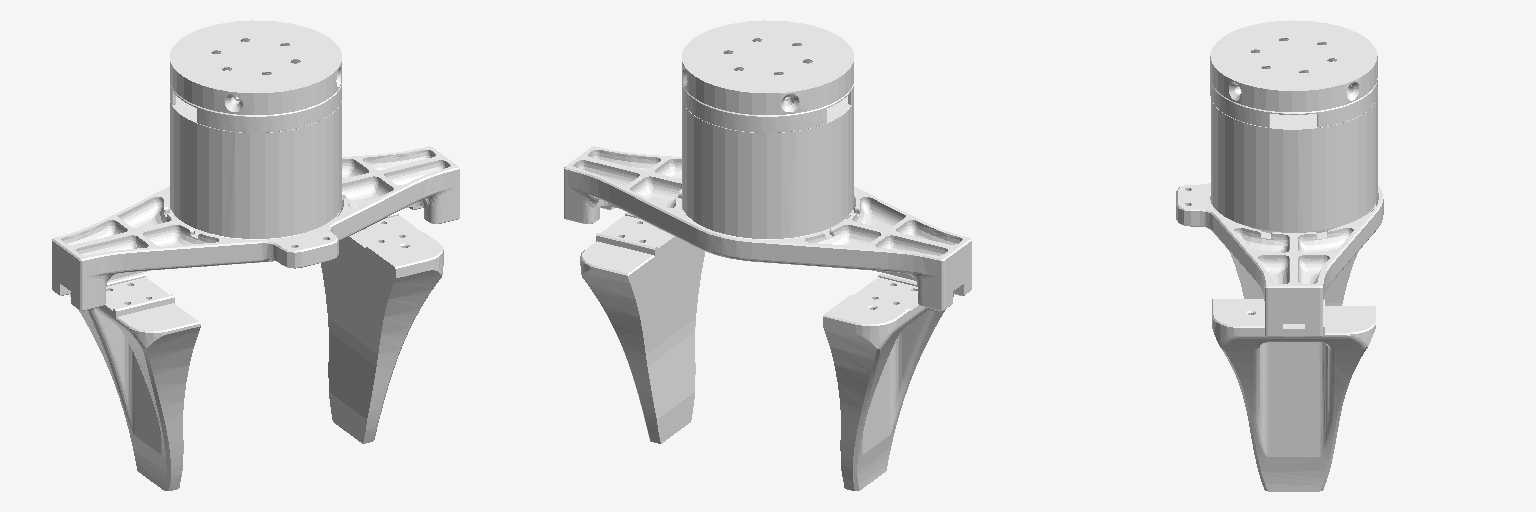
The robot description file, URDF, robot "Gripper_sl.SLDASM":
<?xml version="1.0" encoding="utf-8"?>
<!-- This URDF was automatically created by SolidWorks to URDF Exporter! Originally created by [author] ([email redacted]) 
     Commit Version: 1.6.0-4-g7f85cfe  Build Version: 1.6.7995.38578
     For more information, please see http://wiki.ros.org/sw_urdf_exporter -->
<robot
  name="Gripper_sl.SLDASM">
  <link
    name="gripper_base_link">
    <inertial>
      <origin
        xyz="4.65548901642729E-08 2.07699093660247E-07 -0.00305111703426376"
        rpy="0 0 0" />
      <mass
        value="0.00992680291756064" />
      <inertia
        ixx="2.76373401377601E-06"
        ixy="9.61601560942167E-17"
        ixz="1.43920777483183E-12"
        iyy="2.76373401418272E-06"
        iyz="1.12259443789081E-12"
        izz="5.4121499247132E-06" />
    </inertial>
    <visual>
      <origin
        xyz="0 0 0"
        rpy="0 0 0" />
      <geometry>
        <mesh
          filename="gripper_base_link.STL" />
      </geometry>
      <material
        name="">
        <color
          rgba="1 1 1 1" />
      </material>
    </visual>
    <collision>
      <origin
        xyz="0 0 0"
        rpy="0 0 0" />
      <geometry>
        <mesh
          filename="gripper_base_link.STL" />
      </geometry>
    </collision>
  </link>
  <link
    name="gripper_base_1">
    <inertial>
      <origin
        xyz="1.04377877868655E-13 -0.000670251081537792 -0.00517769470357479"
        rpy="0 0 0" />
      <mass
        value="0.0114674350711656" />
      <inertia
        ixx="2.47933850777464E-06"
        ixy="1.37680482016218E-17"
        ixz="-8.91827775823255E-19"
        iyy="2.21455601318244E-06"
        iyz="-2.77514858493388E-08"
        izz="4.49403976650643E-06" />
    </inertial>
    <visual>
      <origin
        xyz="0 0 0"
        rpy="0 0 0" />
      <geometry>
        <mesh
          filename="gripper_base_1.STL" />
      </geometry>
      <material
        name="">
        <color
          rgba="1 1 1 1" />
      </material>
    </visual>
    <collision>
      <origin
        xyz="0 0 0"
        rpy="0 0 0" />
      <geometry>
        <mesh
          filename="gripper_base_1.STL" />
      </geometry>
    </collision>
  </link>
  <joint
    name="gripper_base_1"
    type="fixed">
    <origin
      xyz="0 0 -0.002"
      rpy="0 0 0" />
    <parent
      link="gripper_base_link" />
    <child
      link="gripper_base_1" />
    <axis
      xyz="0 0 0" />
  </joint>
  <link
    name="motor">
    <inertial>
      <origin
        xyz="5.72458747072346E-17 -6.24500451351651E-17 -0.0190798363949345"
        rpy="0 0 0" />
      <mass
        value="0.0971330540813995" />
      <inertia
        ixx="3.1728329248593E-05"
        ixy="2.20893233455871E-08"
        ixz="8.37235025880248E-20"
        iyy="3.16518095879143E-05"
        iyz="-1.36677546417533E-19"
        izz="3.95993685941691E-05" />
    </inertial>
    <visual>
      <origin
        xyz="0 0 0"
        rpy="0 0 0" />
      <geometry>
        <mesh
          filename="motor.STL" />
      </geometry>
      <material
        name="">
        <color
          rgba="1 1 1 1" />
      </material>
    </visual>
    <collision>
      <origin
        xyz="0 0 0"
        rpy="0 0 0" />
      <geometry>
        <mesh
          filename="motor.STL" />
      </geometry>
    </collision>
  </link>
  <joint
    name="motor_joint"
    type="fixed">
    <origin
      xyz="0 0 -0.0125"
      rpy="0 0 0" />
    <parent
      link="gripper_base_1" />
    <child
      link="motor" />
    <axis
      xyz="0 0 0" />
  </joint>
  <link
    name="track">
    <inertial>
      <origin
        xyz="6.3498933065018E-08 0.00391242876826861 -0.00670865811389305"
        rpy="0 0 0" />
      <mass
        value="0.0294462872017374" />
      <inertia
        ixx="6.23243170689493E-06"
        ixy="-3.31124111591654E-08"
        ixz="-1.79874565200192E-11"
        iyy="5.94391838055153E-05"
        iyz="1.51124077893304E-07"
        izz="6.48526370978431E-05" />
    </inertial>
    <visual>
      <origin
        xyz="0 0 0"
        rpy="0 0 0" />
      <geometry>
        <mesh
          filename="track.STL" />
      </geometry>
      <material
        name="">
        <color
          rgba="1 1 1 1" />
      </material>
    </visual>
    <collision>
      <origin
        xyz="0 0 0"
        rpy="0 0 0" />
      <geometry>
        <mesh
          filename="track.STL" />
      </geometry>
    </collision>
  </link>
  <joint
    name="track_joint"
    type="fixed">
    <origin
      xyz="0 -0.0054043 -0.0385"
      rpy="0 0 0" />
    <parent
      link="motor" />
    <child
      link="track" />
    <axis
      xyz="0 0 0" />
  </joint>
  <link
    name="left_finger">
    <inertial>
      <origin
        xyz="0.00446818556599507 0.000725304388452201 -0.0207766413760557"
        rpy="0 0 0" />
      <mass
        value="0.0235654349828436" />
      <inertia
        ixx="1.31532341256544E-05"
        ixy="6.35660631938774E-08"
        ixz="1.51248690539334E-06"
        iyy="9.35764420887573E-06"
        iyz="-3.51589251978715E-07"
        izz="5.49378358815034E-06" />
    </inertial>
    <visual>
      <origin
        xyz="0 0 0"
        rpy="0 0 0" />
      <geometry>
        <mesh
          filename="left_finger.STL" />
      </geometry>
      <material
        name="">
        <color
          rgba="1 1 1 1" />
      </material>
    </visual>
    <collision>
      <origin
        xyz="0 0 0"
        rpy="0 0 0" />
      <geometry>
        <mesh
          filename="left_finger.STL" />
      </geometry>
    </collision>
  </link>
  <joint
    name="gripper_left_finger"
    type="prismatic">
    <origin
      xyz="-0.04825 0.0054043 -0.022"
      rpy="0 0 0" />
    <parent
      link="track" />
    <child
      link="left_finger" />
    <axis
      xyz="1 0 0" />
    <limit
      lower="0"
      upper="0"
      effort="0"
      velocity="0" />
  </joint>
  <link
    name="right_finger">
    <inertial>
      <origin
        xyz="-0.00446818556599658 -0.000725304388452195 -0.0207766413760557"
        rpy="0 0 0" />
      <mass
        value="0.0235654349828436" />
      <inertia
        ixx="1.31532341256545E-05"
        ixy="6.35660631938769E-08"
        ixz="-1.51248690539334E-06"
        iyy="9.35764420887577E-06"
        iyz="3.51589251978724E-07"
        izz="5.49378358815034E-06" />
    </inertial>
    <visual>
      <origin
        xyz="0 0 0"
        rpy="0 0 0" />
      <geometry>
        <mesh
          filename="right_finger.STL" />
      </geometry>
      <material
        name="">
        <color
          rgba="1 1 1 1" />
      </material>
    </visual>
    <collision>
      <origin
        xyz="0 0 0"
        rpy="0 0 0" />
      <geometry>
        <mesh
          filename="right_finger.STL" />
      </geometry>
    </collision>
  </link>
  <joint
    name="gripper_right_finger"
    type="prismatic">
    <origin
      xyz="0.04825 0.0054043 -0.022"
      rpy="0 0 0" />
    <parent
      link="track" />
    <child
      link="right_finger" />
    <axis
      xyz="1 0 0" />
    <limit
      lower="0"
      upper="0"
      effort="0"
      velocity="0" />
  </joint>
</robot>

--- Facts derived from the render (not from the file) ---
The picture shows the robot from 3 angles, left to right: view 1: azimuth 30°, elevation 25°; view 2: azimuth 150°, elevation 25°; view 3: azimuth 270°, elevation 25°; orthographic projection.
Robot: Gripper_sl.SLDASM — 6 links, 5 joints (2 prismatic, 3 fixed); root link gripper_base_link; default pose: every joint at zero.
Links seen in each view (by area): view 1: track, motor, right_finger, left_finger, gripper_base_link, gripper_base_1; view 2: track, motor, right_finger, left_finger, gripper_base_link, gripper_base_1; view 3: right_finger, motor, gripper_base_link, track, gripper_base_1, left_finger.
Link boxes in pixels (x1,y1,x2,y2): track: (52,146,459,310); motor: (170,96,341,238); right_finger: (321,212,443,443); left_finger: (70,272,200,490); gripper_base_link: (170,20,341,114); gripper_base_1: (170,41,341,132); track: (564,146,971,310); motor: (682,96,853,238); right_finger: (580,213,704,443); left_finger: (823,273,953,490); gripper_base_link: (682,20,853,114); gripper_base_1: (682,41,853,132); right_finger: (1212,299,1375,491); motor: (1211,96,1377,231); gripper_base_link: (1210,20,1377,111); track: (1176,183,1383,336); gripper_base_1: (1210,41,1377,127); left_finger: (1229,226,1358,305).
Bounding box of the posed robot: 0.145 × 0.0705 × 0.145 m (x, y, z).
6 mesh visuals loaded from 6 distinct referenced files (6 binary STL).